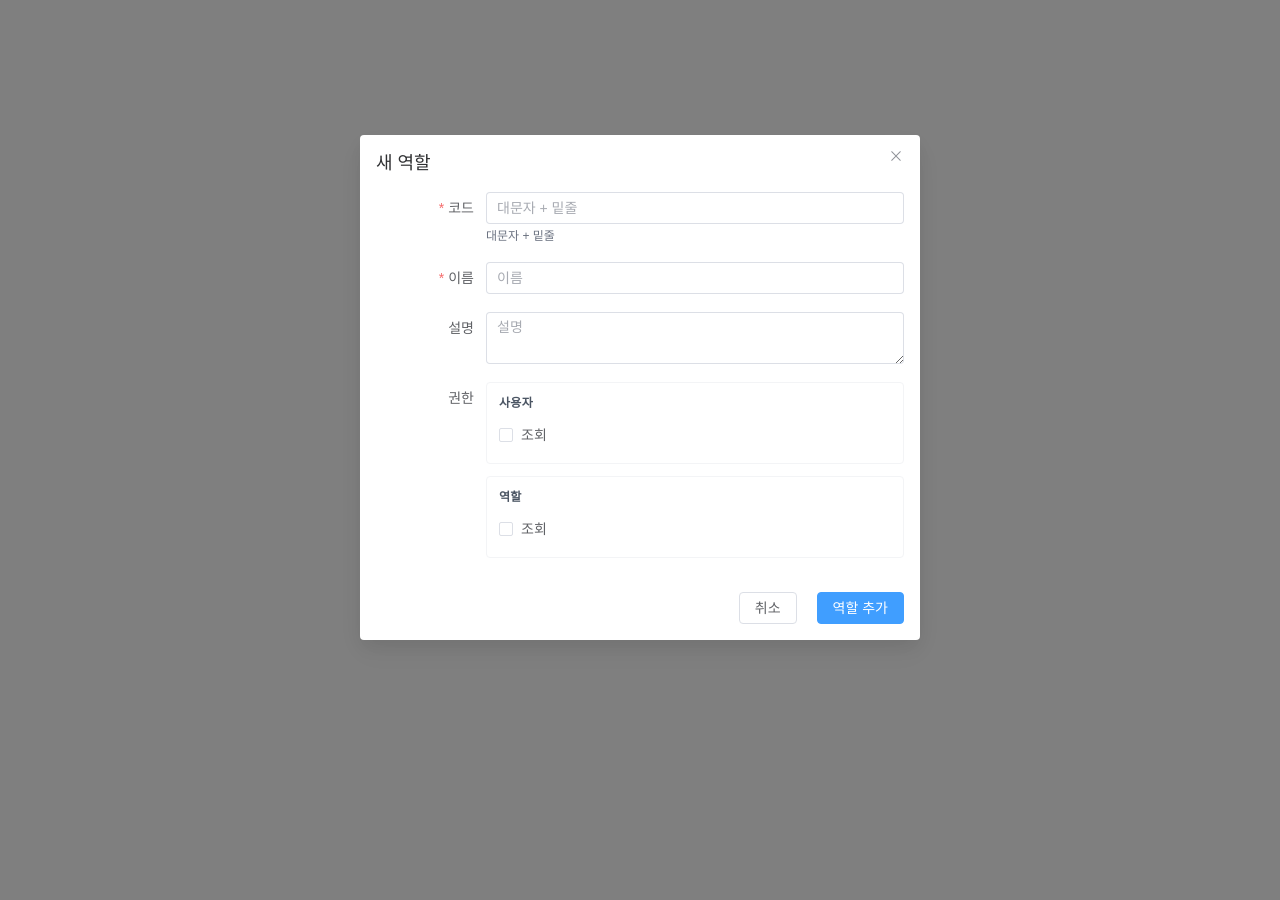
Test: RoleFormView › 중복 코드 에러 시 submitError 메시지가 표시된다
유효한 코드 입력
Type "VALID_CODE" into the field with id "role-form-code".
click(695, 208); type("VALID_CODE")  # box [497,193,893,223]
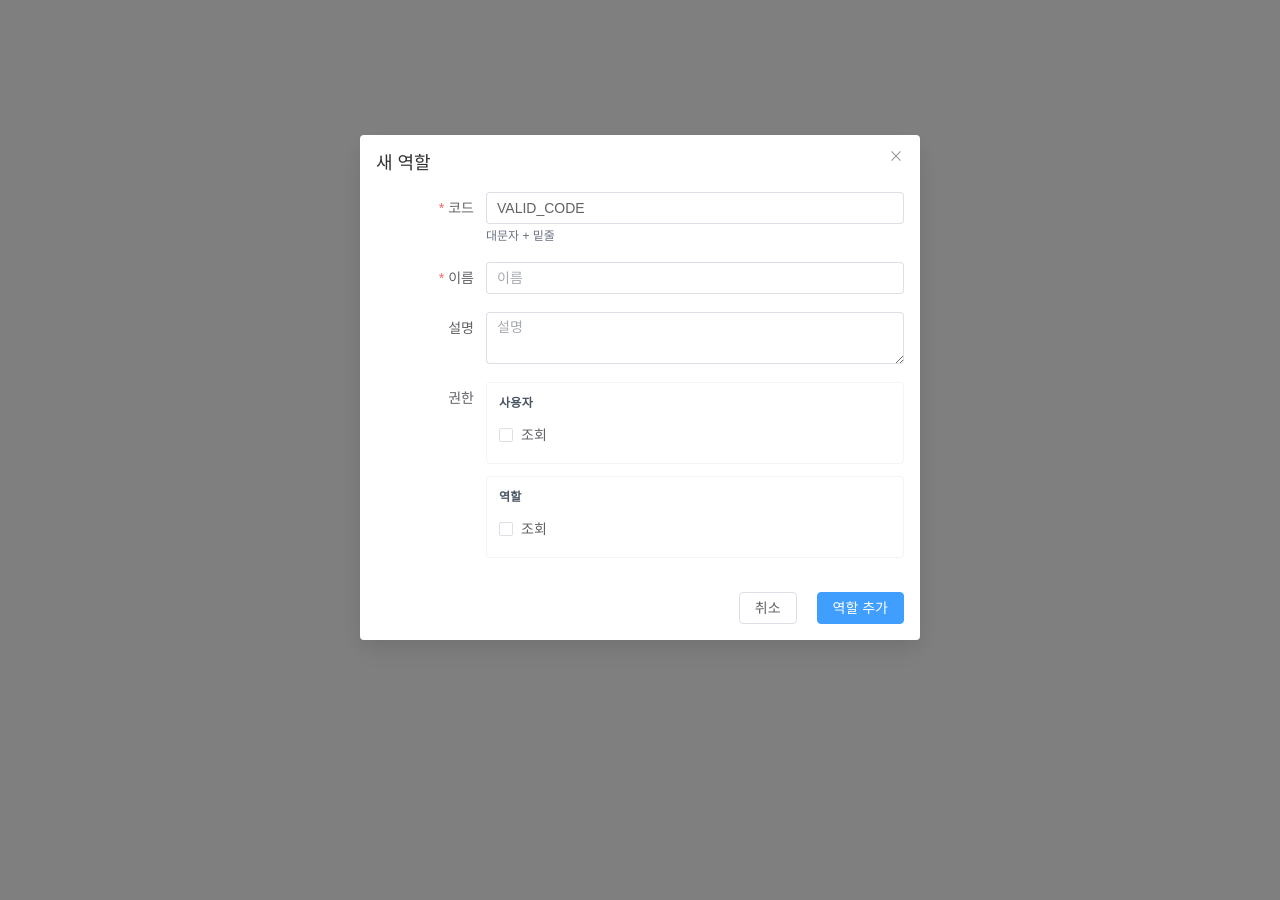
Type "Valid Name" into the field with id "role-form-name".
click(695, 278); type("Valid Name")  # box [497,263,893,293]
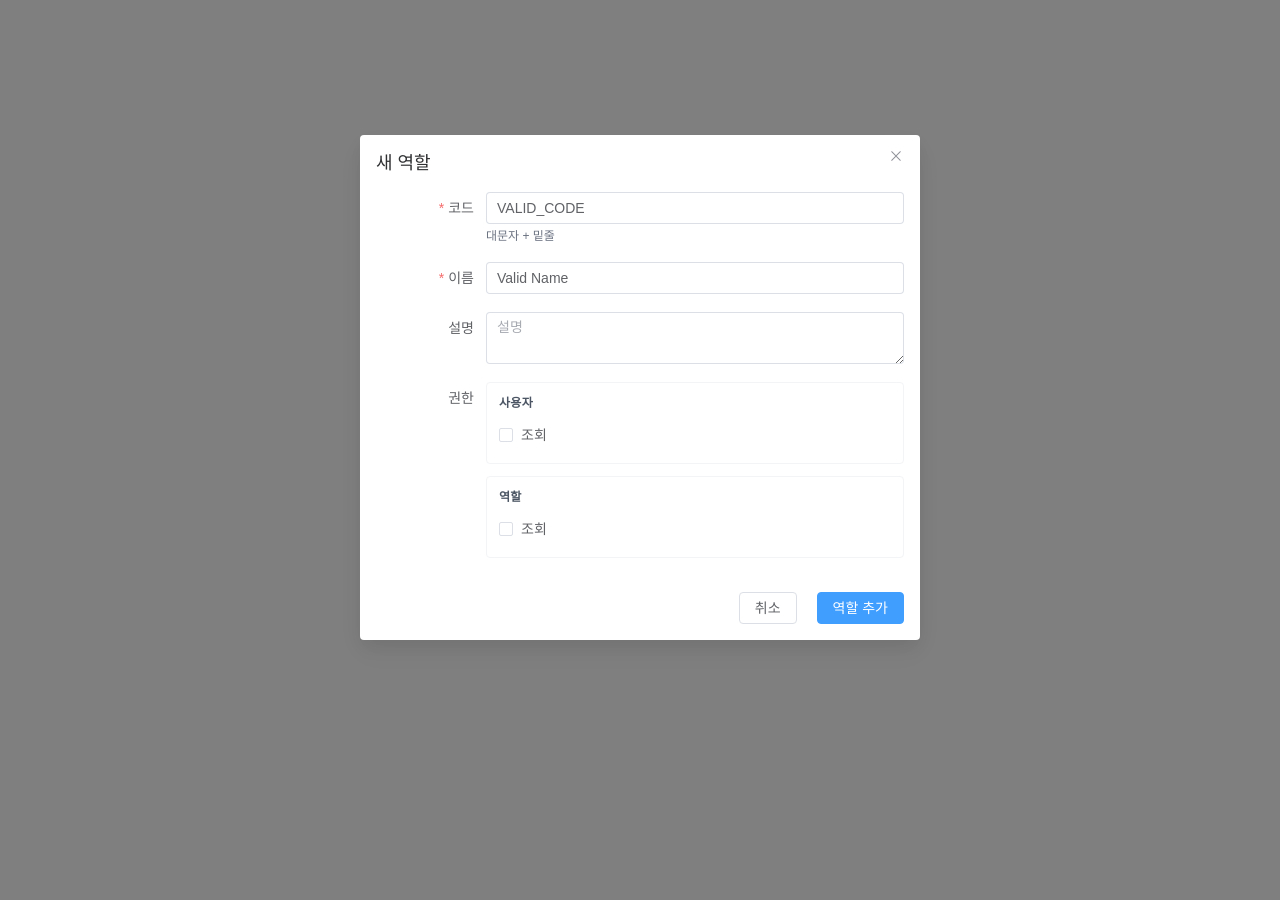
Click the button "역할 추가".
click(860, 608)  # box [817,592,904,624]
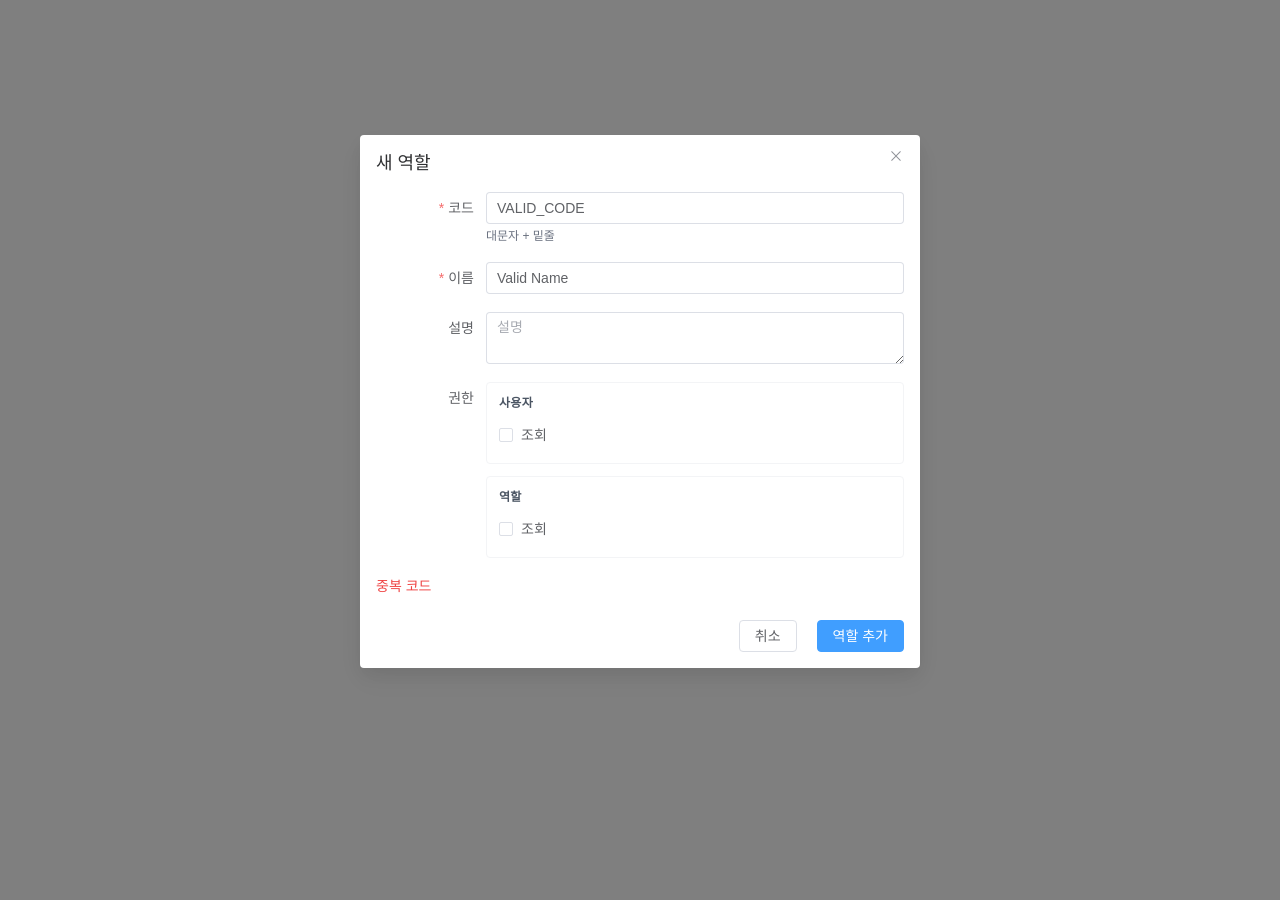
Expected: the text "중복 코드" is shown, [376,578,431,594]
